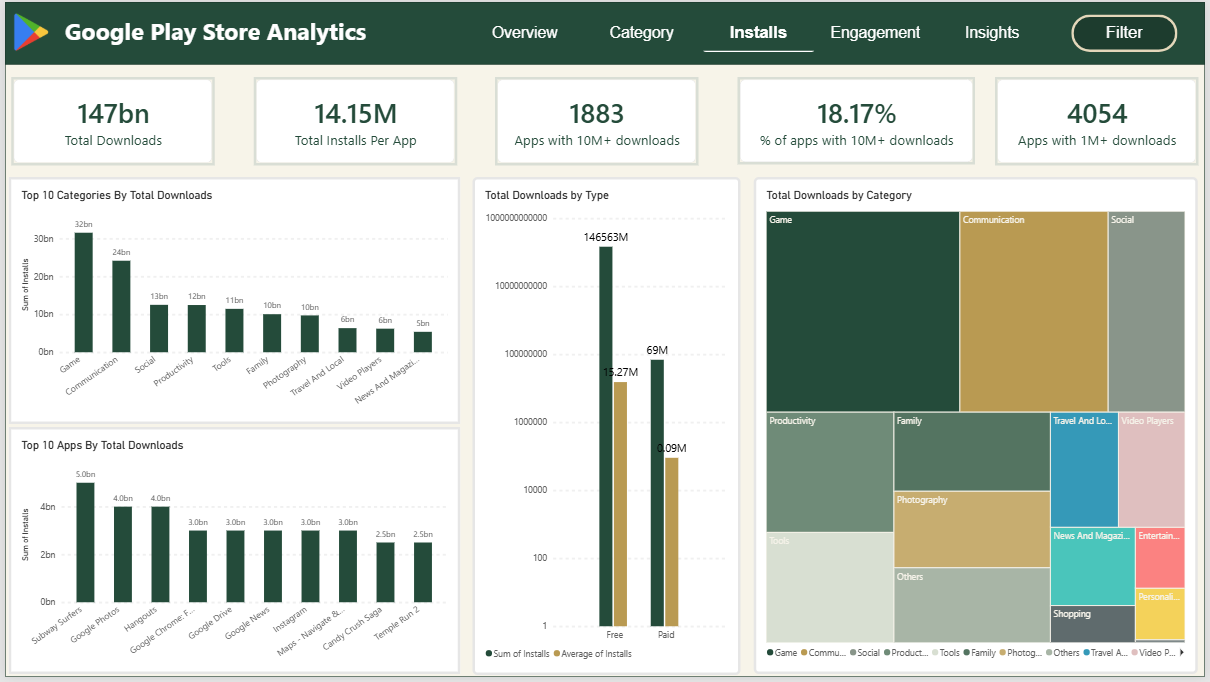

Layout of this report page (visuals, bound fields, positions):
{"tool":"powerbi","page":{"name":"Installs","canvas":[1920,1080],"ordinal":2},"visuals":[{"type":"shape","box":[0,0,1920,1080],"z":0},{"type":"shape","box":[0,0,1920,100],"z":0,"group":"g1"},{"type":"group","id":"g1","title":"Group 1","box":[0,0,1920,100],"z":1000},{"type":"textbox","box":[95,20,525,60],"z":1000,"group":"g1"},{"type":"actionButton","box":[1705,20,170,60],"z":1500,"group":"g1"},{"type":"pageNavigator","box":[742.5,20,927.5,60],"z":2000,"group":"g1"},{"type":"cardVisual","fields":{"Data":["measure_table.Apps with 1M+ downloads"]},"box":[1583,119,325.7,141.5],"z":4000},{"type":"cardVisual","fields":{"Data":["measure_table.Apps with 10M+ downloads"]},"box":[784.5,119,325.7,141.5],"z":5000},{"type":"cardVisual","fields":{"Data":["measure_table.% of apps with 1M+ downloads"]},"box":[1172.5,120,380,140],"z":6000},{"type":"cardVisual","fields":{"Data":["Sum(Apps.Installs)"]},"box":[10,119,325.7,141.5],"z":7000},{"type":"cardVisual","fields":{"Data":["Avg(Apps.Installs)"]},"box":[397.2,119,325.7,141.5],"z":8000},{"type":"columnChart","title":"Top 10 Categories By Total Downloads","fields":{"Category":["Apps.Category"],"Y":["Sum(Apps.Installs)"]},"box":[5,280,722.5,395],"z":9000},{"type":"columnChart","title":"Top 10 Apps By Total Downloads","fields":{"Category":["Apps.App"],"Y":["Sum(Apps.Installs)"]},"box":[5,680,722.5,395],"z":10000},{"type":"clusteredColumnChart","title":"Total Downloads by Type","fields":{"Category":["Apps.Type"],"Y":["Sum(Apps.Installs)","Avg(Apps.Installs)"]},"box":[748.2,279.2,428.5,796.4],"z":11000},{"type":"treemap","title":"Total Downloads by Category","fields":{"Group":["Apps.Category (groups)"],"Values":["Sum(Apps.Installs)"]},"box":[1197.5,280,710,795],"z":12000},{"type":"image","box":[10.8,8.7,62.8,80.1],"z":14001,"group":"g1"}]}

Visuals, with their boxes in screenshot pixels (x1, y1, x2, y2), scaled from the page's 1920x1080 canvas onto the 1210x682 screenshot:
shape: Rect(0, 0, 1209, 681)
shape: Rect(0, 0, 1209, 63)
"Group 1" group: Rect(0, 0, 1209, 63)
textbox: Rect(60, 13, 391, 51)
actionButton: Rect(1075, 13, 1182, 51)
pageNavigator: Rect(468, 13, 1052, 51)
cardVisual - measure_table.Apps with 1M+ downloads: Rect(998, 75, 1203, 165)
cardVisual - measure_table.Apps with 10M+ downloads: Rect(494, 75, 700, 165)
cardVisual - measure_table.% of apps with 1M+ downloads: Rect(739, 76, 978, 164)
cardVisual - Sum(Apps.Installs): Rect(6, 75, 212, 165)
cardVisual - Avg(Apps.Installs): Rect(250, 75, 456, 165)
"Top 10 Categories By Total Downloads" columnChart: Rect(3, 177, 458, 426)
"Top 10 Apps By Total Downloads" columnChart: Rect(3, 429, 458, 679)
"Total Downloads by Type" clusteredColumnChart: Rect(472, 176, 742, 679)
"Total Downloads by Category" treemap: Rect(755, 177, 1202, 679)
image: Rect(7, 5, 46, 56)
